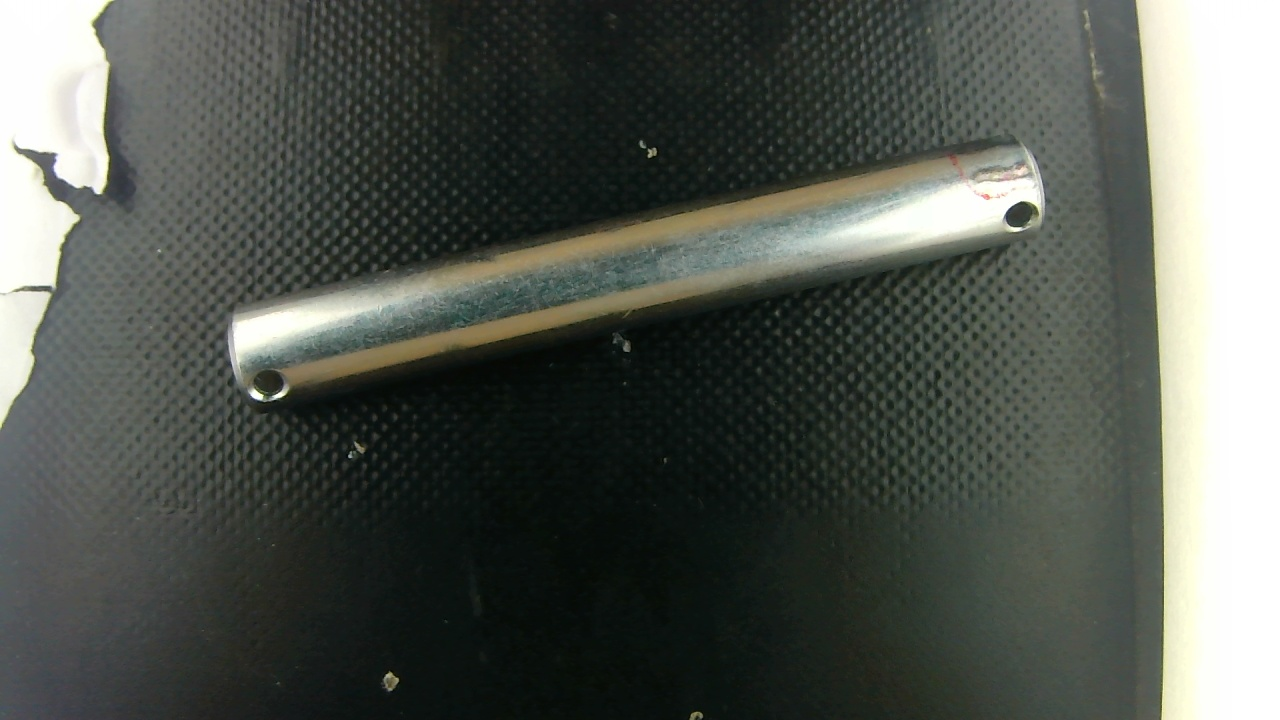black patch_pin: (445, 244, 503, 274)
